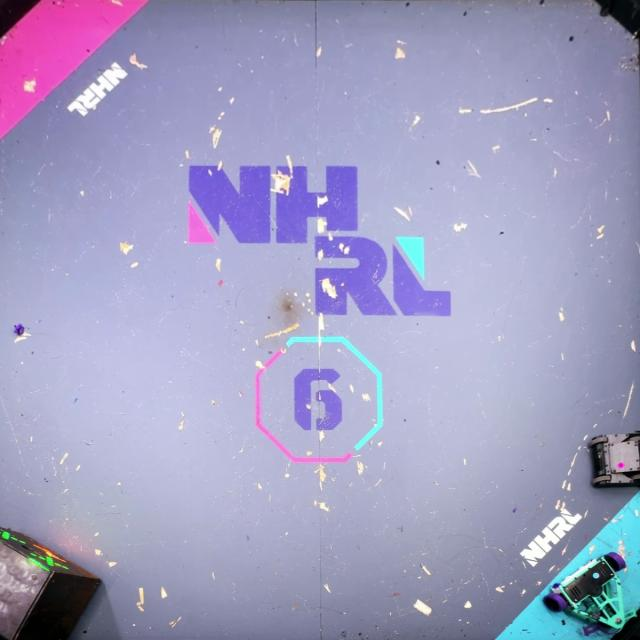housebot: (0, 522, 104, 640)
robot: (543, 549, 638, 640), (586, 428, 640, 486)
